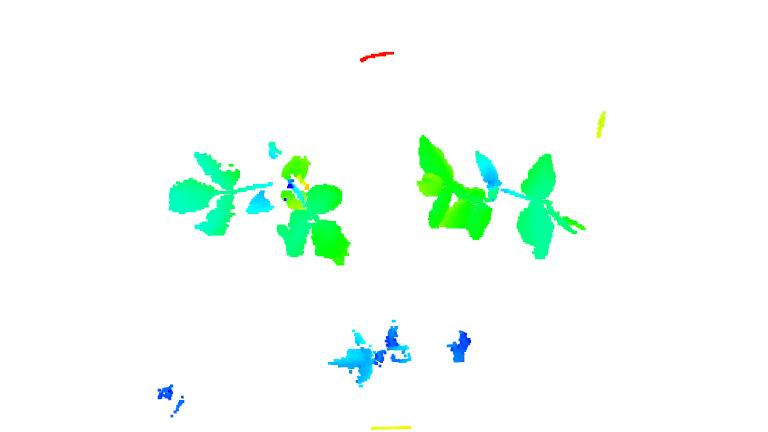mungbean: (159, 136, 365, 272), (408, 125, 592, 265), (328, 313, 417, 395)
